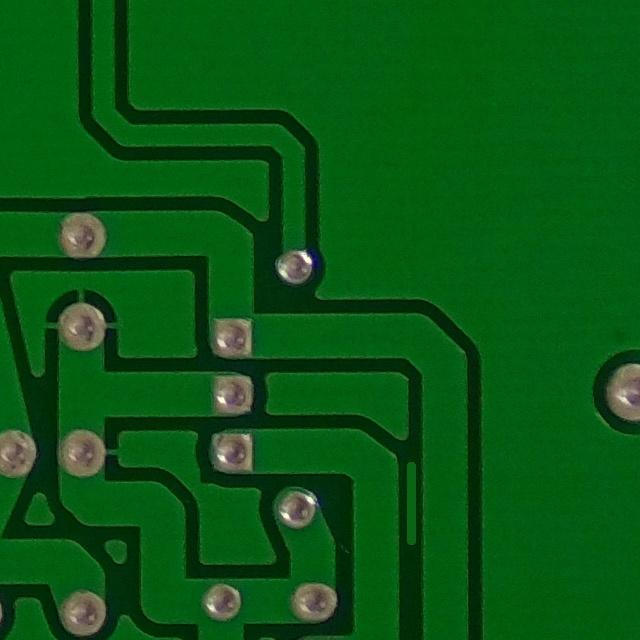spurious_copper: (389, 442, 434, 564)
